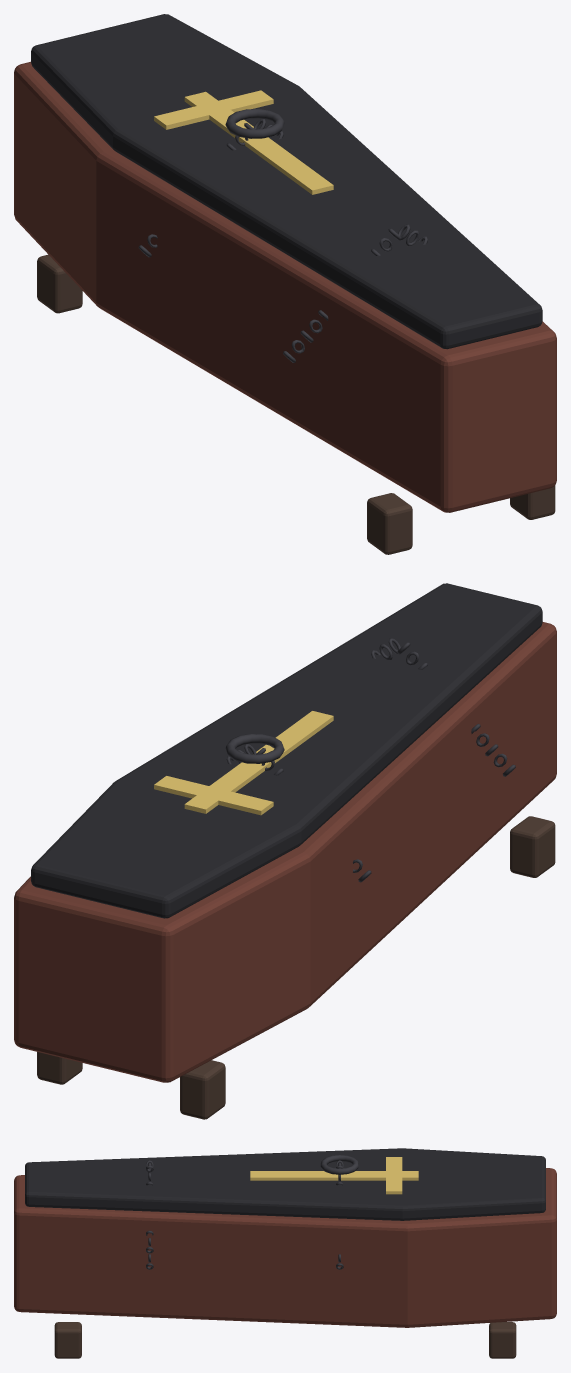
Rendered from coffin_chained.glb.
3 renders of one model, top to bottom at view 1: azimuth 30°, elevation 25°; view 2: azimuth 150°, elevation 25°; view 3: azimuth 270°, elevation 25°, orthographic. The views are drawn at different scales.
Visible parts, largest first — view 1: GD_coffin_chained__m0, GD_coffin_chained__m1, GD_coffin_chained__m4, GD_coffin_chained__m3, GD_coffin_chained__m2; view 2: GD_coffin_chained__m0, GD_coffin_chained__m1, GD_coffin_chained__m4, GD_coffin_chained__m3, GD_coffin_chained__m2; view 3: GD_coffin_chained__m0, GD_coffin_chained__m1, GD_coffin_chained__m3, GD_coffin_chained__m4, GD_coffin_chained__m2.
Part boxes in pixels (bbox=[...]): GD_coffin_chained__m0: bbox=[14, 61, 556, 512]; GD_coffin_chained__m1: bbox=[31, 14, 542, 349]; GD_coffin_chained__m4: bbox=[37, 254, 555, 554]; GD_coffin_chained__m3: bbox=[154, 90, 333, 194]; GD_coffin_chained__m2: bbox=[138, 109, 427, 362]; GD_coffin_chained__m0: bbox=[14, 622, 556, 1082]; GD_coffin_chained__m1: bbox=[31, 583, 542, 918]; GD_coffin_chained__m4: bbox=[37, 816, 555, 1119]; GD_coffin_chained__m3: bbox=[154, 711, 333, 815]; GD_coffin_chained__m2: bbox=[225, 638, 515, 882]; GD_coffin_chained__m0: bbox=[14, 1168, 556, 1327]; GD_coffin_chained__m1: bbox=[25, 1148, 545, 1220]; GD_coffin_chained__m3: bbox=[250, 1157, 418, 1194]; GD_coffin_chained__m4: bbox=[54, 1322, 516, 1358]; GD_coffin_chained__m2: bbox=[146, 1155, 358, 1269].
Size of the model in its own units: 0.6484 by 0.692 by 2.
